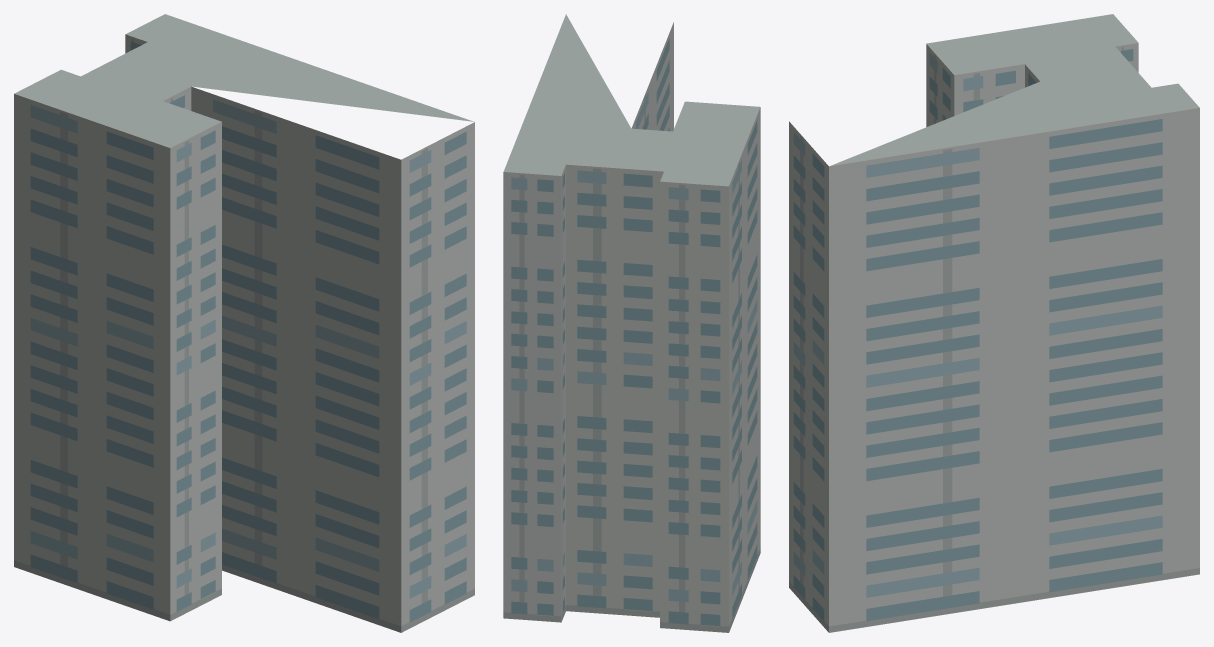
The model's file is residential-736b5060-c162-47d1-a95c-48bf5ae0866c.glb.
The picture shows the model from 3 angles, left to right: view 1: azimuth 30°, elevation 25°; view 2: azimuth 150°, elevation 25°; view 3: azimuth 270°, elevation 25°; orthographic projection. The views are drawn at different scales.
Parts seen in each view (by area): view 1: residential-736b5060-c162-47d1-a95c-48bf5ae0866c.tmp; view 2: residential-736b5060-c162-47d1-a95c-48bf5ae0866c.tmp; view 3: residential-736b5060-c162-47d1-a95c-48bf5ae0866c.tmp.
Boxes of the visible parts, x1,y1,x2,y2 form: residential-736b5060-c162-47d1-a95c-48bf5ae0866c.tmp: [14, 14, 474, 632]; residential-736b5060-c162-47d1-a95c-48bf5ae0866c.tmp: [503, 14, 760, 632]; residential-736b5060-c162-47d1-a95c-48bf5ae0866c.tmp: [789, 14, 1199, 632].
Bounding box in the file's own units: 44.15 × 63 × 50.28.
